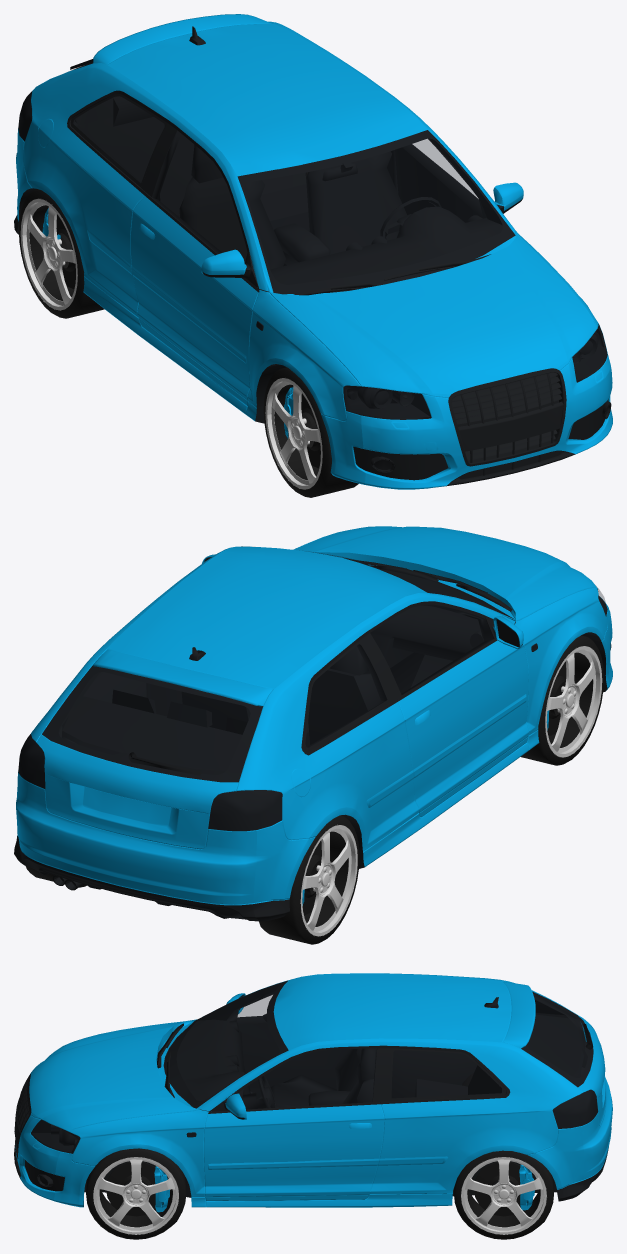
File: audi.glb
3 views of the same model, one above another, from view 1: azimuth 30°, elevation 25°; view 2: azimuth 150°, elevation 25°; view 3: azimuth 270°, elevation 25° (orthographic). The views are drawn at different scales.
Parts seen in each view (by area): view 1: audi_paint, audi_interior, audi_glass, audi_bumper, wheel_fr_tyre, wheel_rr_tyre, wheel_rr_rim, wheel_fr_rim; view 2: audi_paint, audi_interior, audi_glass, audi_bumper, wheel_rr_tyre, wheel_fr_tyre, wheel_fr_rim, wheel_rr_rim; view 3: audi_paint, audi_interior, audi_glass, audi_bumper, wheel_fl_tyre, wheel_rl_tyre, wheel_rl_rim, wheel_fl_rim.
Part boxes in pixels (x1,y1,x2,y2): audi_paint: (16, 14, 612, 489); audi_interior: (16, 62, 608, 479); audi_glass: (18, 61, 607, 419); audi_bumper: (14, 26, 611, 486); wheel_fr_tyre: (263, 367, 358, 497); wheel_rr_tyre: (18, 189, 104, 318); wheel_rr_rim: (20, 198, 77, 310); wheel_fr_rim: (265, 378, 322, 489); audi_paint: (16, 526, 612, 905); audi_interior: (18, 546, 607, 868); audi_glass: (18, 552, 607, 830); audi_bumper: (14, 557, 611, 921); wheel_rr_tyre: (259, 815, 359, 944); wheel_fr_tyre: (521, 635, 603, 765); wheel_fr_rim: (545, 646, 602, 757); wheel_rr_rim: (300, 824, 357, 936); audi_paint: (15, 973, 612, 1212); audi_interior: (17, 980, 597, 1206); audi_glass: (31, 981, 597, 1153); audi_bumper: (14, 991, 608, 1201); wheel_fl_tyre: (86, 1148, 186, 1239); wheel_rl_tyre: (454, 1150, 553, 1239); wheel_rl_rim: (461, 1157, 546, 1234); wheel_fl_rim: (93, 1157, 178, 1234).
Size of the model in its own units: 3.59 by 2.76 by 7.75.
